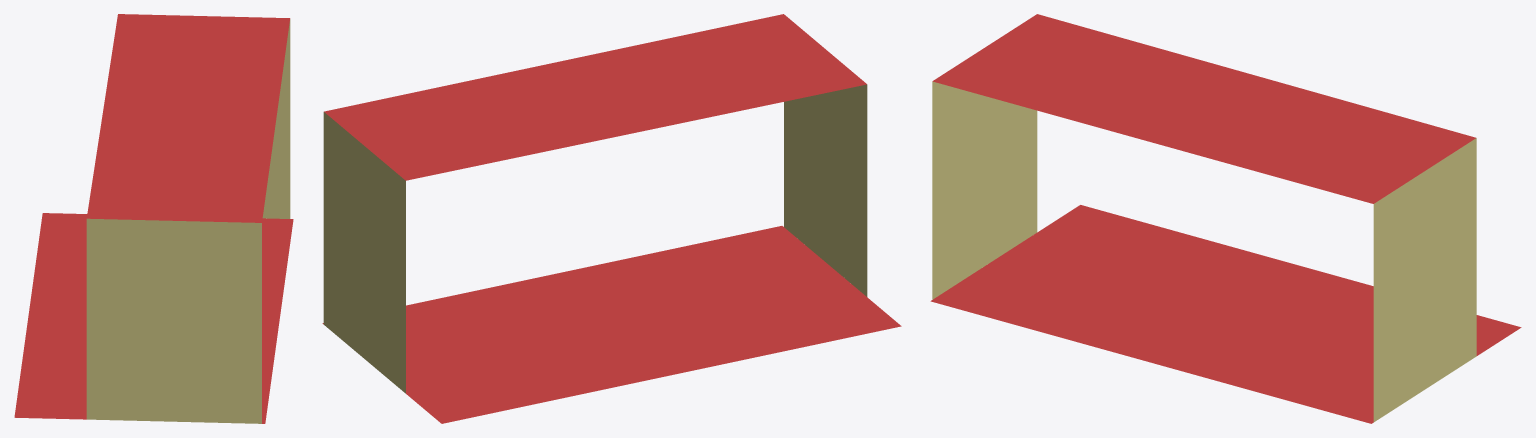
3 renders of one model, left to right at view 1: azimuth 30°, elevation 25°; view 2: azimuth 150°, elevation 25°; view 3: azimuth 270°, elevation 25°, orthographic. The views are drawn at different scales.
Parts seen in each view (by area): view 1: group_4, group_3, group_5; view 2: group_5, group_3, group_4; view 3: group_5, group_3, group_4.
Part boxes in pixels (bbox=[...]): group_4: bbox=[86, 19, 290, 423]; group_3: bbox=[86, 14, 290, 222]; group_5: bbox=[14, 213, 293, 423]; group_5: bbox=[322, 226, 901, 423]; group_3: bbox=[324, 14, 866, 180]; group_4: bbox=[323, 84, 867, 393]; group_5: bbox=[930, 205, 1521, 423]; group_3: bbox=[932, 14, 1475, 203]; group_4: bbox=[932, 81, 1476, 422].
Size of the model in its own units: 21.28 by 24.26 by 9.89.
